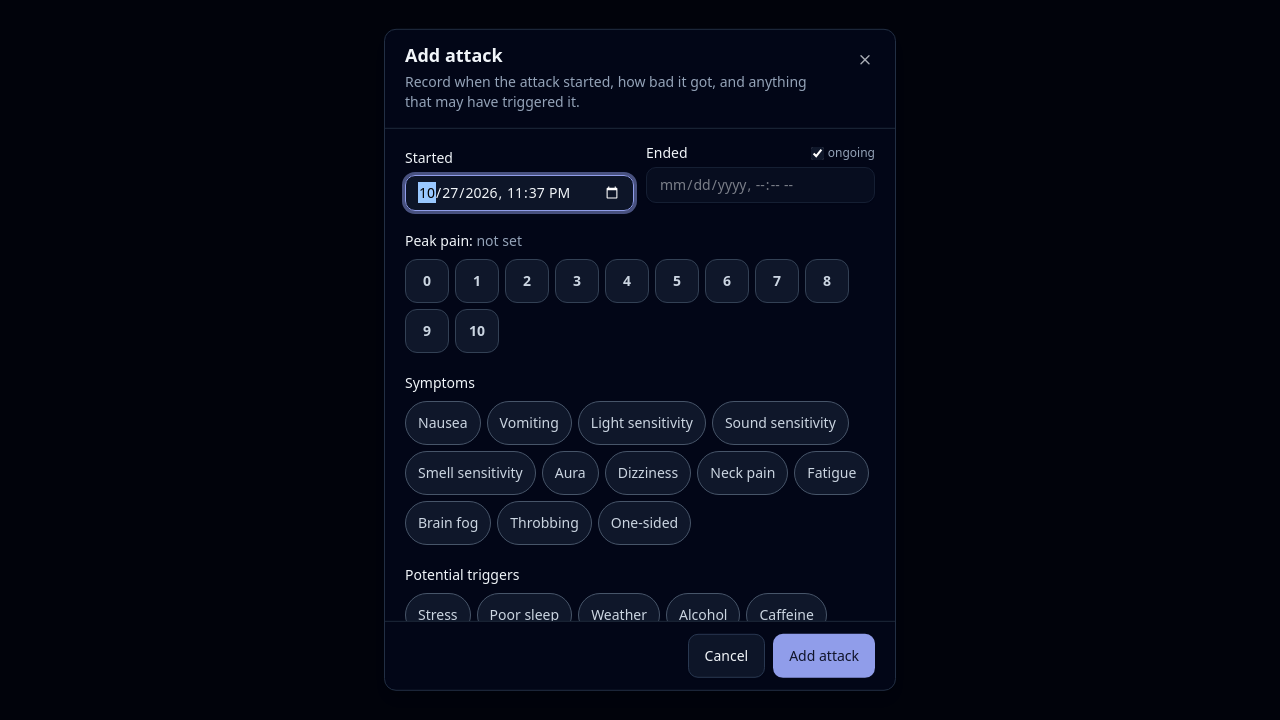
Test: AttackFormDialog time validation › requires a usable end when ongoing is unchecked
Check: the field labelled "Ended" is disabled, box [646, 167, 875, 203]
Click the checkbox labelled "ongoing" at (817, 153), box [811, 146, 824, 159]
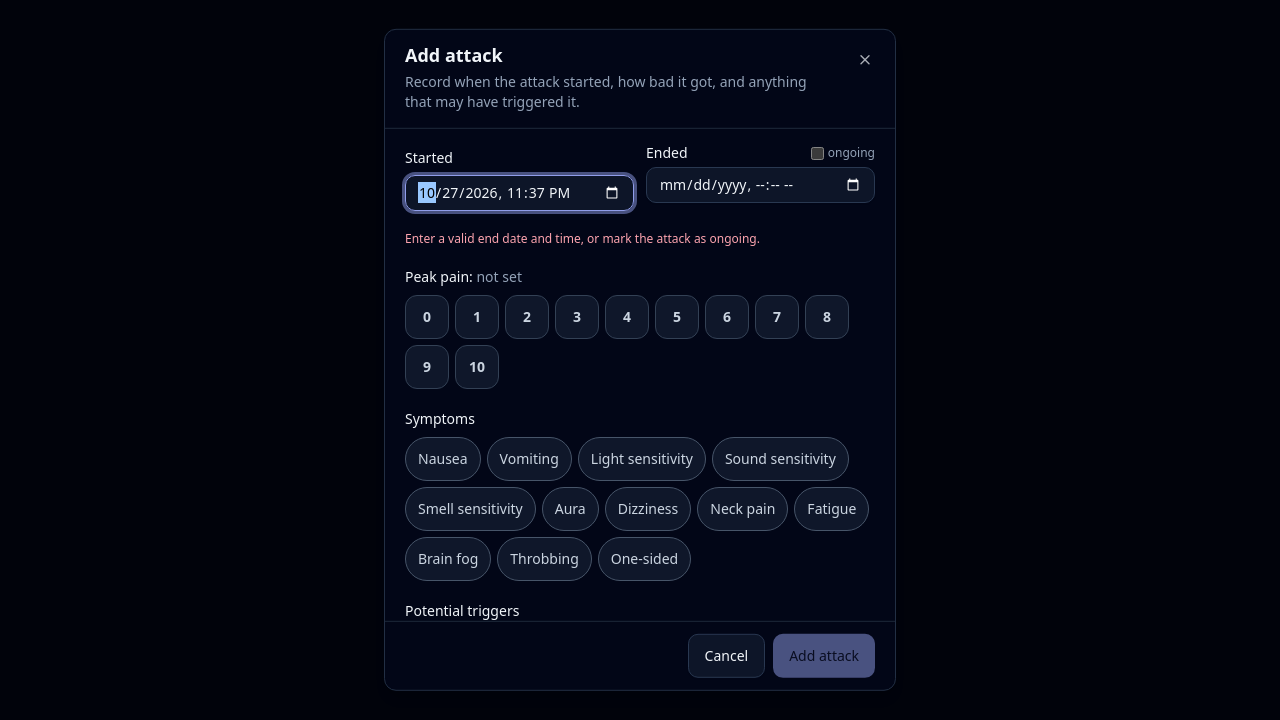
Check: the field labelled "Ended" is enabled, box [646, 167, 875, 203]
Check: the button "Add attack" is disabled, box [773, 634, 875, 678]
Check: the message shows "valid end", box [405, 230, 760, 247]
Replace the text in the field labelled "Started" with "2026-05-01T09:00" at (520, 193), box [405, 175, 634, 211]
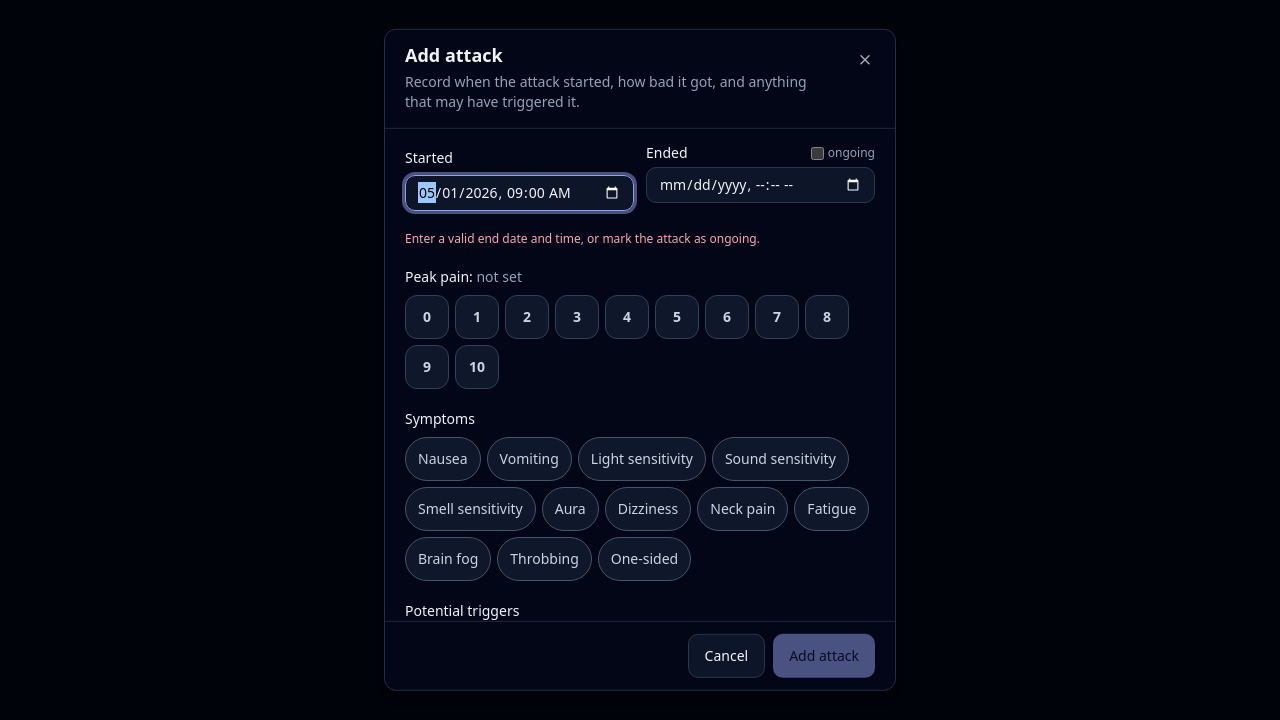
Type "2026-05-01T10:00" into the field labelled "Ended" at (760, 185), box [646, 167, 875, 203]
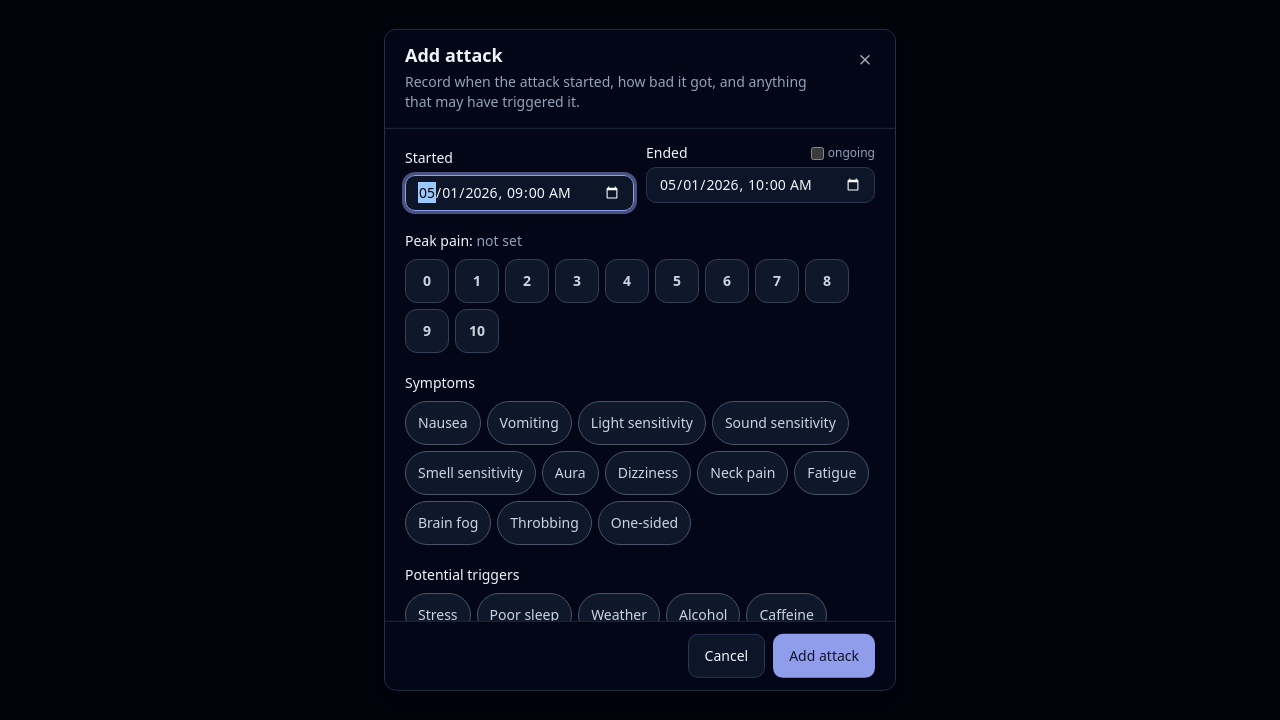
Check: the button "Add attack" is enabled, box [773, 634, 875, 678]
